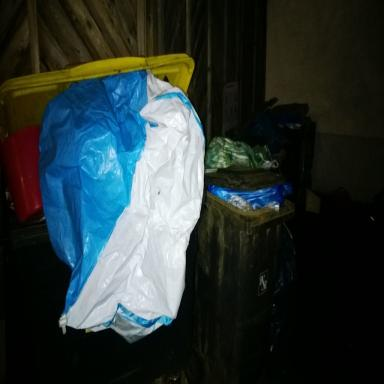plasticbag: (39, 66, 203, 341), (207, 184, 291, 214), (204, 135, 272, 165)
